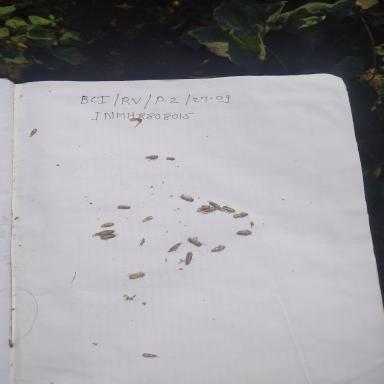pbw: (184, 234, 206, 252), (124, 270, 152, 284), (136, 350, 163, 363), (208, 242, 230, 256), (137, 214, 164, 225), (234, 226, 255, 240), (164, 240, 182, 256), (112, 201, 134, 214), (141, 151, 160, 164), (97, 220, 119, 231), (231, 208, 251, 220), (222, 202, 238, 215), (182, 250, 195, 265), (92, 229, 116, 237), (100, 232, 120, 240), (178, 194, 196, 202), (207, 200, 220, 210), (196, 204, 211, 212), (202, 207, 215, 215), (138, 237, 146, 247), (164, 155, 176, 161), (29, 129, 38, 137), (8, 336, 14, 347)
